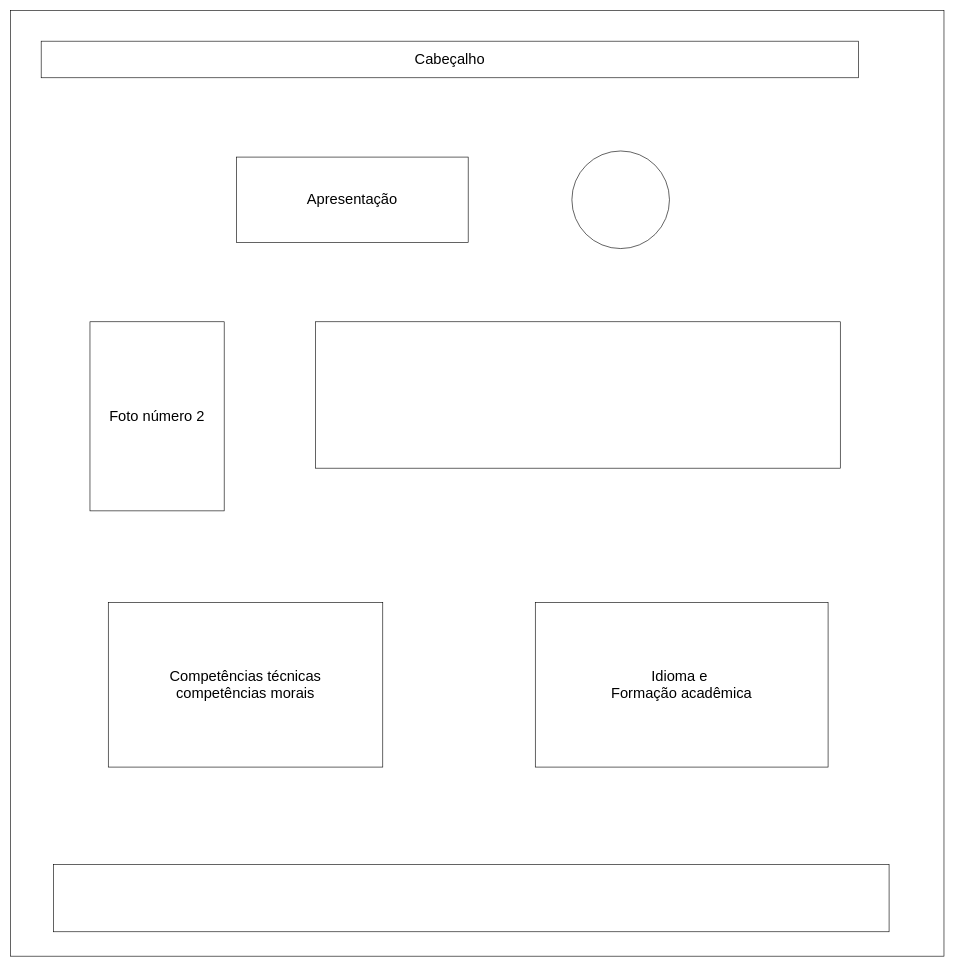
This 955x967 diagram has some shape labels left out. The centre of each missing label's shape, as x and y in pixels:
"Foto" goes at point (620, 199).
"Rodapé" goes at point (471, 898).
"Sobre mim" goes at point (577, 394).
